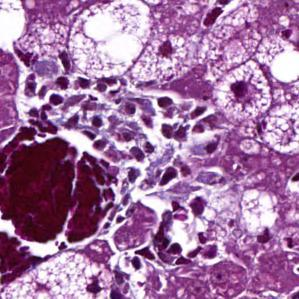ballooning: (66, 3, 155, 79), (214, 61, 275, 124)
